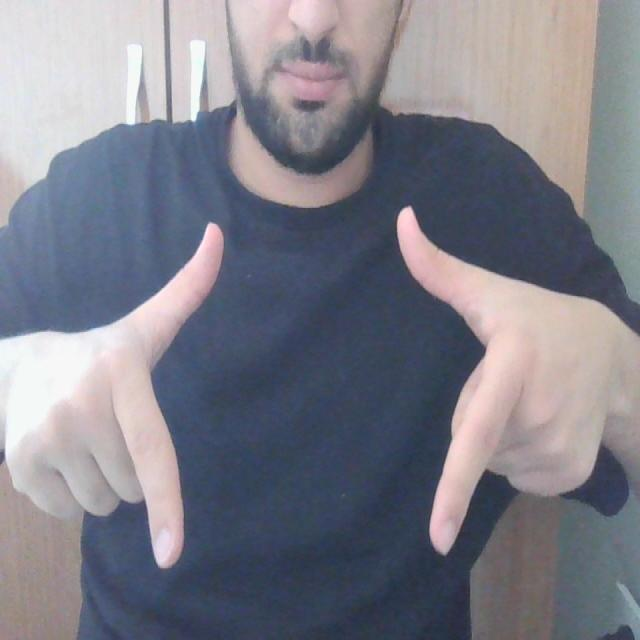Nerede: (100, 198, 536, 574)
